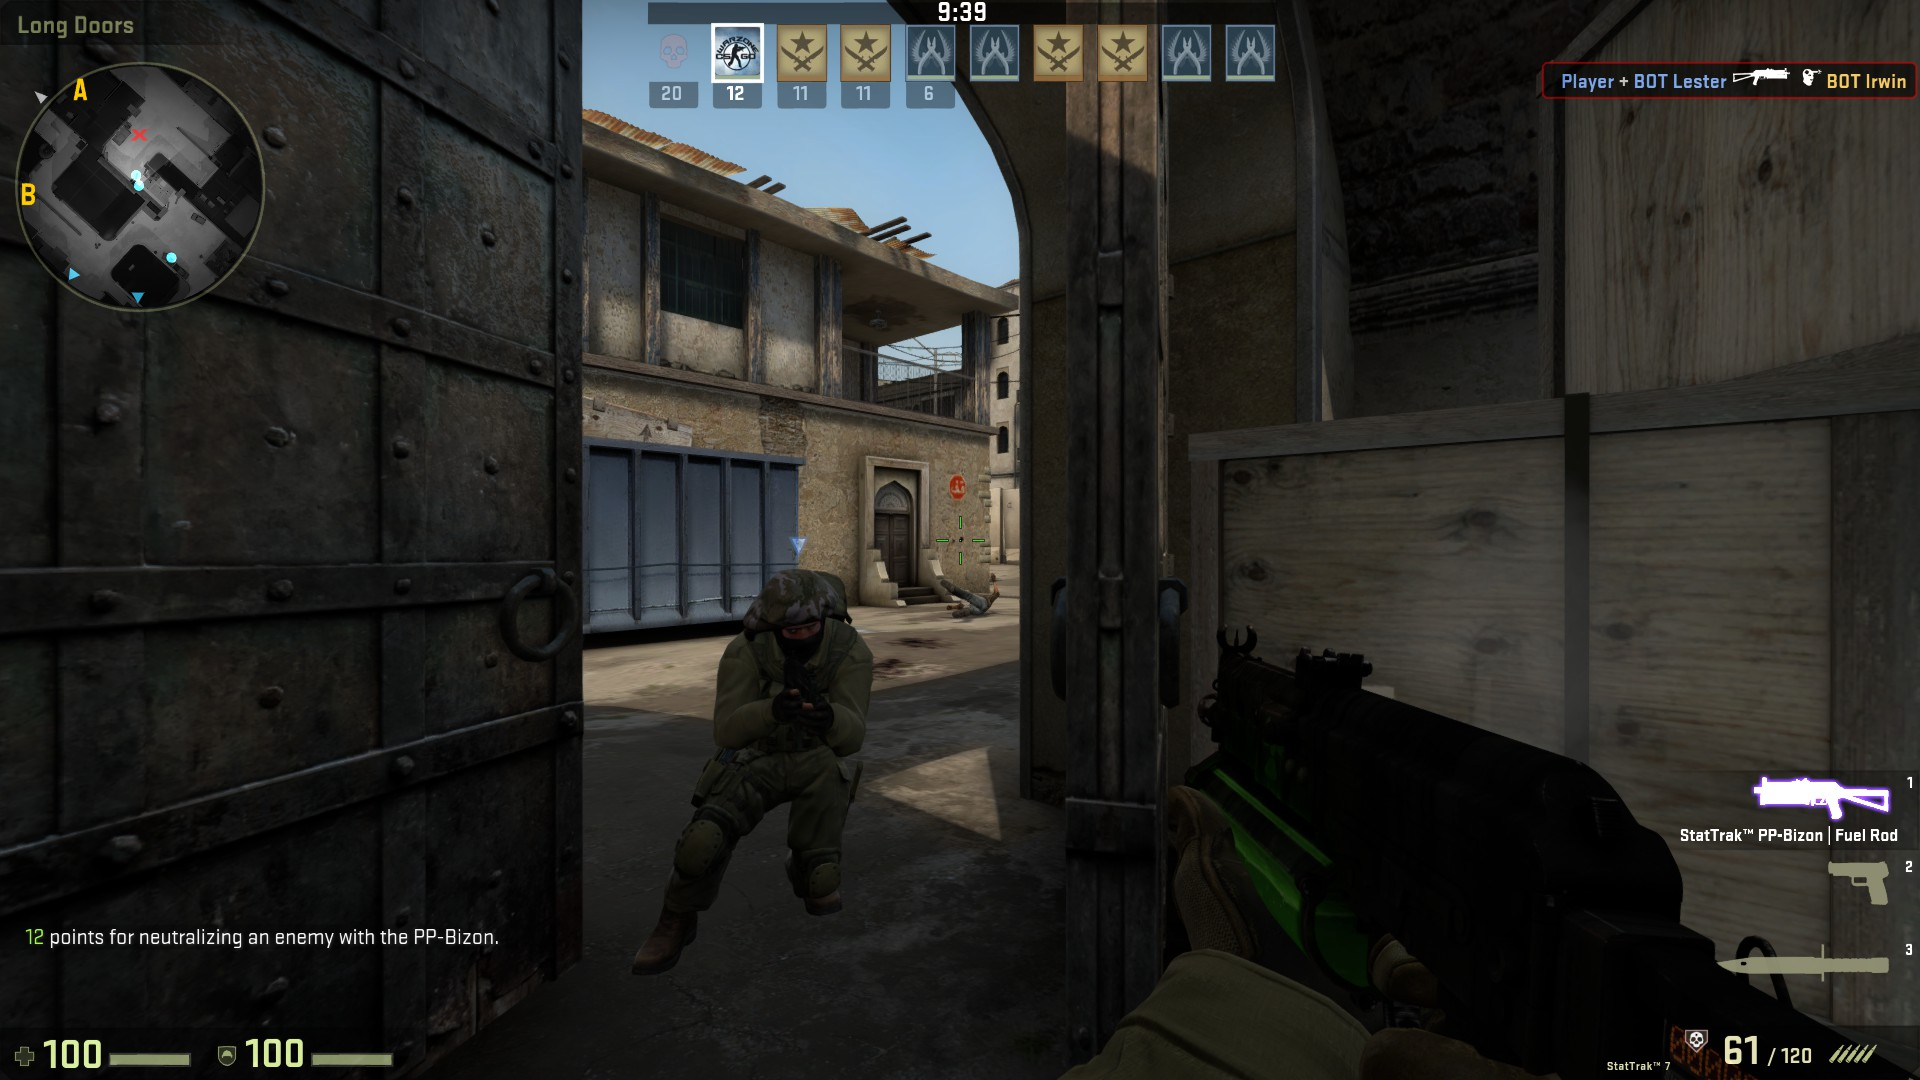c: (651, 566, 893, 947)
ch: (749, 567, 847, 657)
